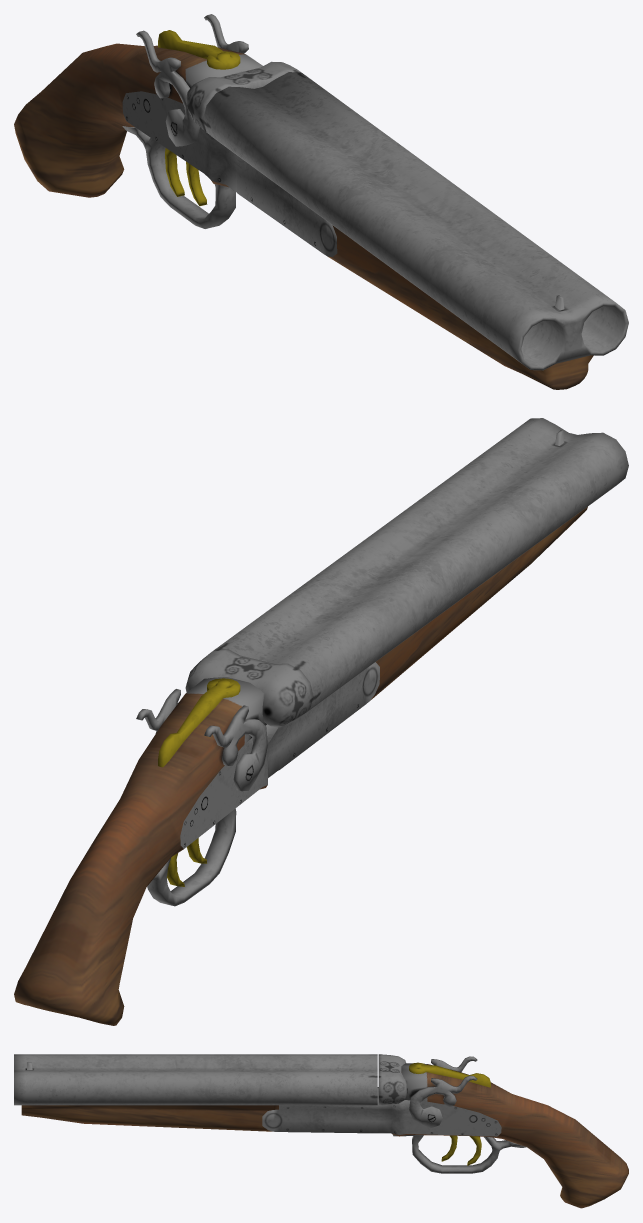
File: Escopeta doble canon para SP.fbx
3 renders of one model, top to bottom at view 1: azimuth 30°, elevation 25°; view 2: azimuth 150°, elevation 25°; view 3: azimuth 270°, elevation 25°, orthographic. The views are drawn at different scales.
Visible parts, largest first — view 1: Cylinder; view 2: Cylinder; view 3: Cylinder.
Part boxes in pixels (box(x1,y1,x2,y2)): Cylinder: box(14, 14, 628, 389); Cylinder: box(14, 418, 628, 1025); Cylinder: box(14, 1054, 628, 1208).
Size of the model in its own units: 11.46 by 23.59 by 94.84.
